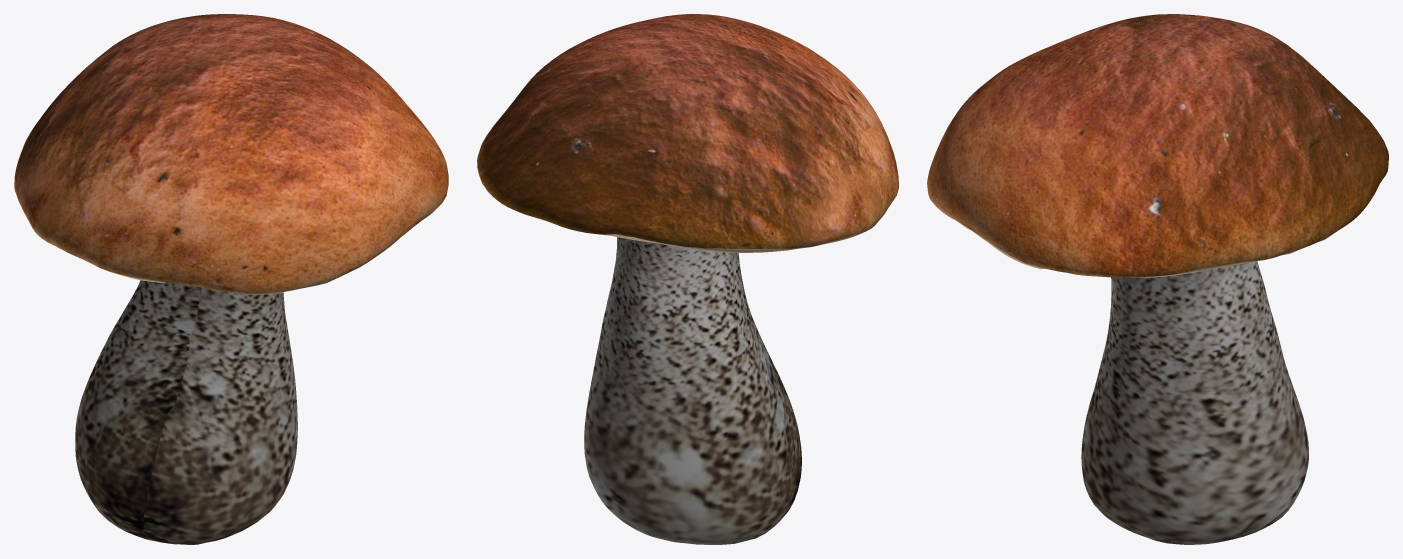
Rendered from SENE_45.fbx.
The picture shows the model from 3 angles, left to right: view 1: azimuth 30°, elevation 25°; view 2: azimuth 150°, elevation 25°; view 3: azimuth 270°, elevation 25°; orthographic projection. The views are drawn at different scales.
Visible parts, largest first — view 1: SENE_45; view 2: SENE_45; view 3: SENE_45.
Boxes of the visible parts, bbox=[...] form: SENE_45: bbox=[14, 14, 448, 544]; SENE_45: bbox=[477, 14, 898, 544]; SENE_45: bbox=[927, 14, 1388, 544].
Size of the model in its own units: 94.7 by 117 by 96.98.
Materials: 1 (1 with a texture image).
